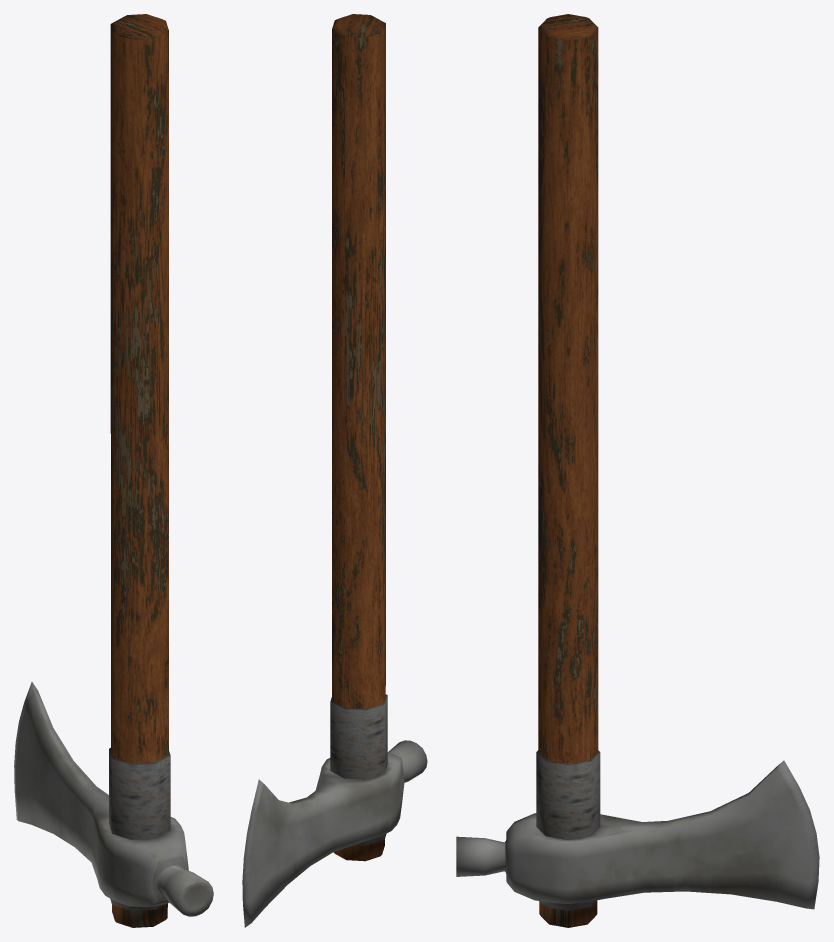
File: axe.obj
3 renders of one model, left to right at view 1: azimuth 30°, elevation 25°; view 2: azimuth 150°, elevation 25°; view 3: azimuth 270°, elevation 25°, orthographic. The views are drawn at different scales.
Visible parts, largest first — view 1: Axe_Low_Poly; view 2: Axe_Low_Poly; view 3: Axe_Low_Poly.
Boxes of the visible parts, x1,y1,x2,y2 form: Axe_Low_Poly: (14, 14, 213, 927); Axe_Low_Poly: (242, 14, 427, 927); Axe_Low_Poly: (456, 14, 819, 927).
Bounding box in the file's own units: 0.0794 × 0.9781 × 0.3587.
